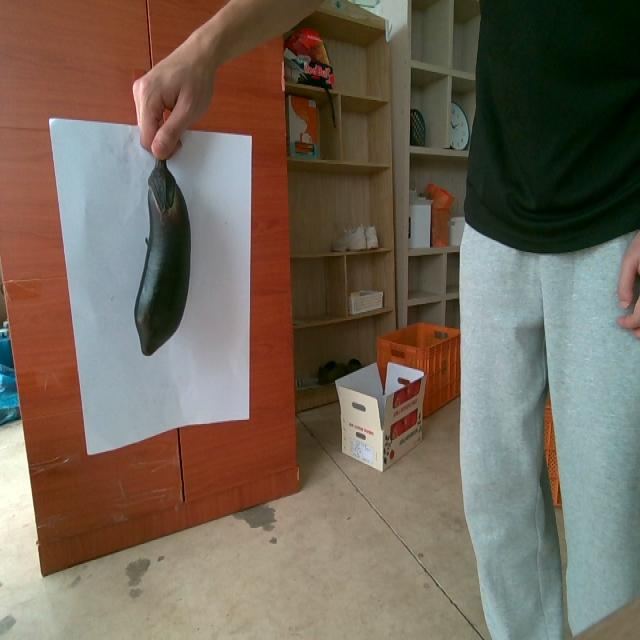Egg plant: (134, 159, 190, 355)
